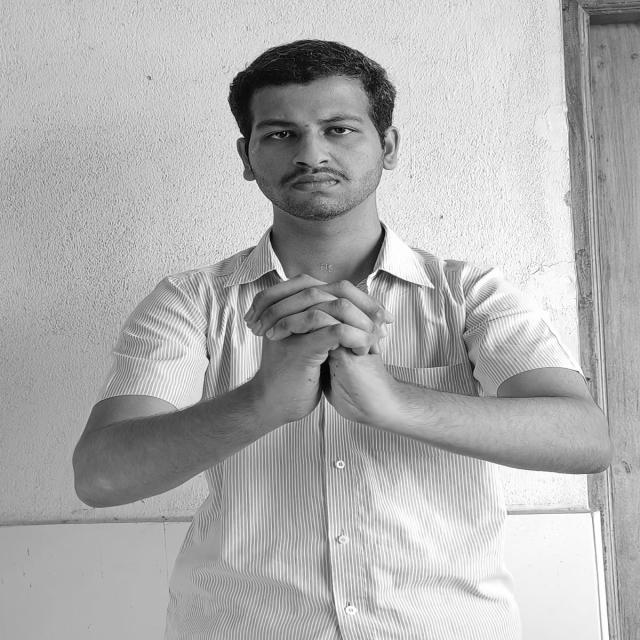Sorry: (244, 275, 392, 428)
